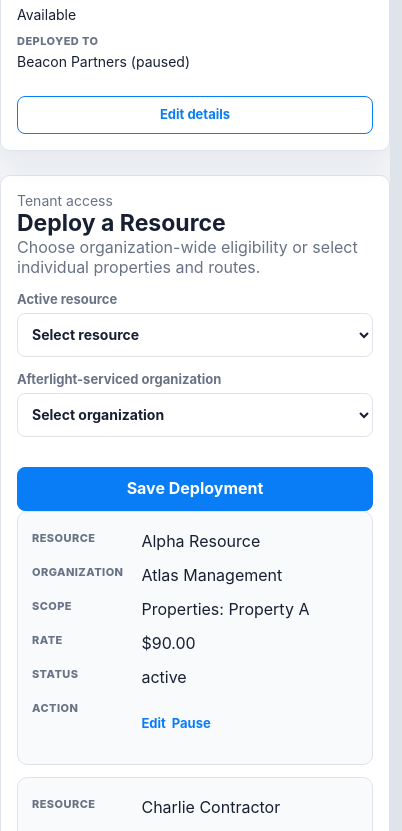
Test: future scheduling scope remains hidden until an organization is selected
(page scrolled)
expect the heading "Deploy a Resource" is shown: met, box [17, 209, 226, 237]
expect the element "Future scheduling scope" is not shown: met
Select "Atlas Management (managed)" in the dropdown labelled "Afterlight-serviced organization": (195, 415) [17, 393, 373, 437]
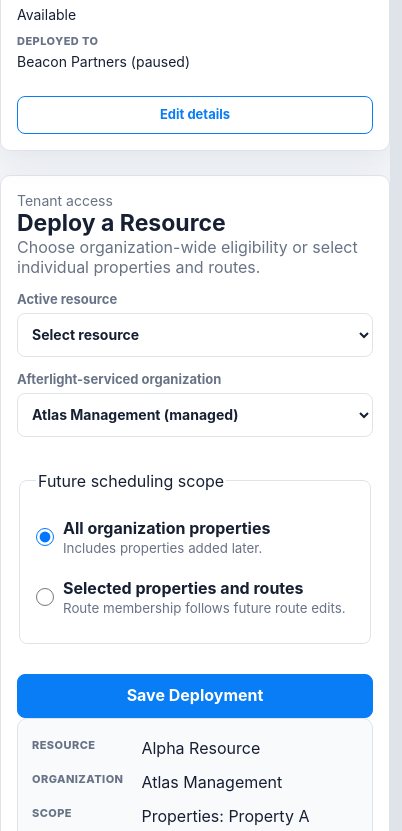
expect the radio button labelled "All organization properties Includes properties added later." is checked: met, box [36, 515, 54, 559]
Click the radio button labelled "Selected properties and routes": (45, 597) [36, 575, 54, 619]
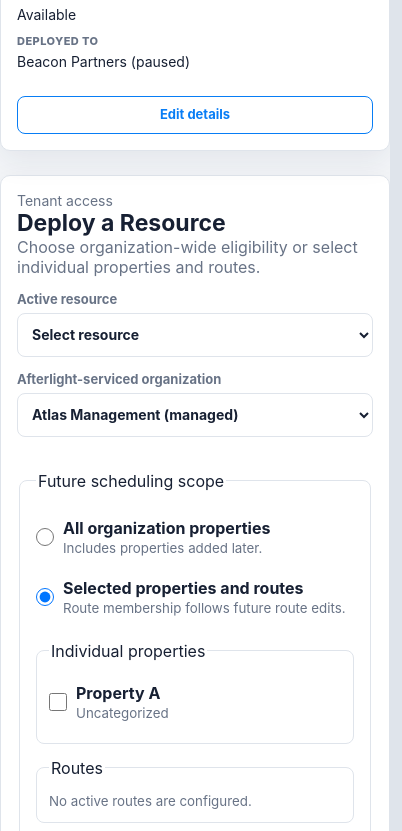
expect the checkbox labelled "Property A Uncategorized" is shown: met, box [49, 680, 67, 724]
